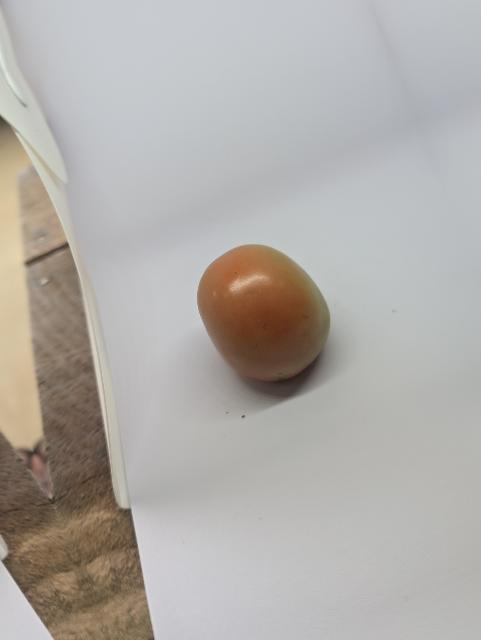turning: (187, 242, 339, 397)
